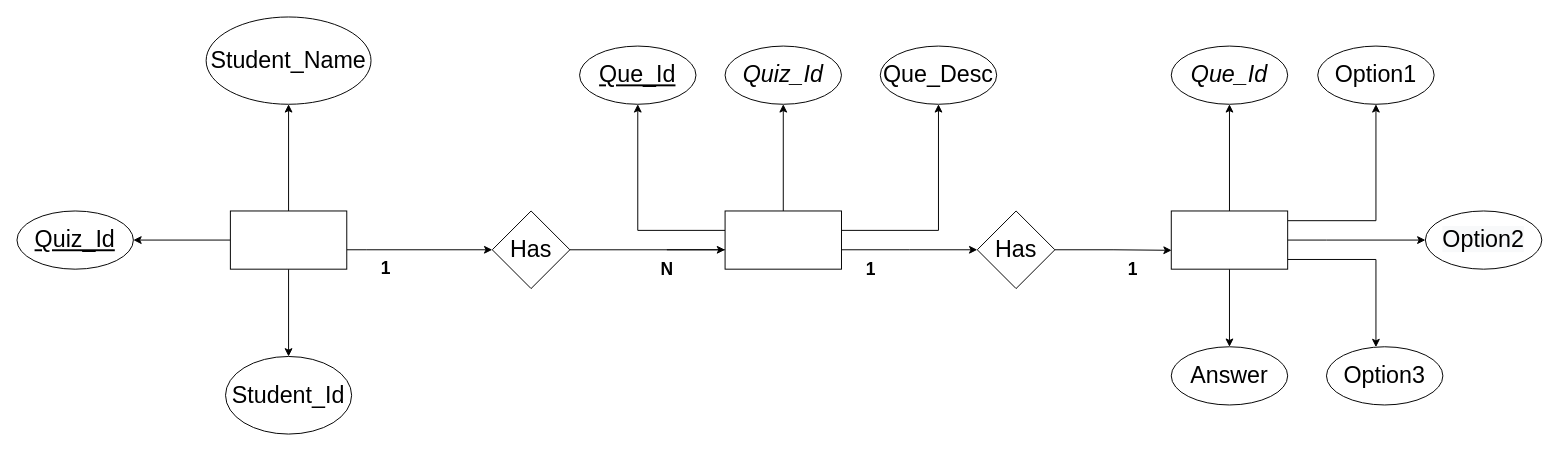
This 1559x451 diagram has some shape labels left out. Here are the shapes that lost their labels. From the top down, the box of each, then its label:
(229, 210, 347, 269): Quiz
(724, 210, 841, 269): Questions
(1170, 210, 1288, 269): Options
